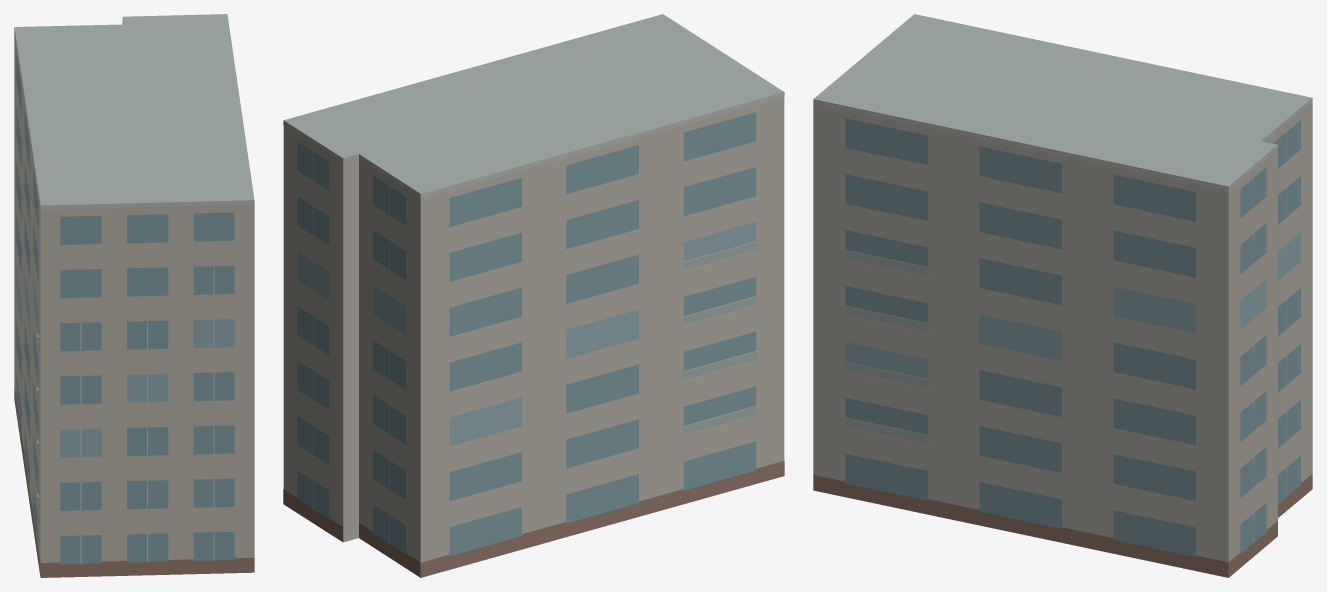
Rendered from survey-upis-32882622.glb.
3 views of the same model, side by side, from view 1: azimuth 30°, elevation 25°; view 2: azimuth 150°, elevation 25°; view 3: azimuth 270°, elevation 25° (orthographic). The views are drawn at different scales.
Parts seen in each view (by area): view 1: survey-upis-32882622.tmp; view 2: survey-upis-32882622.tmp; view 3: survey-upis-32882622.tmp.
Part boxes in pixels (left/top/right/bottom): survey-upis-32882622.tmp: left=14, top=14, right=254, bottom=577; survey-upis-32882622.tmp: left=283, top=14, right=784, bottom=577; survey-upis-32882622.tmp: left=813, top=14, right=1312, bottom=577.
Bounding box in the file's own units: 19.1 × 20.2 × 23.36.
